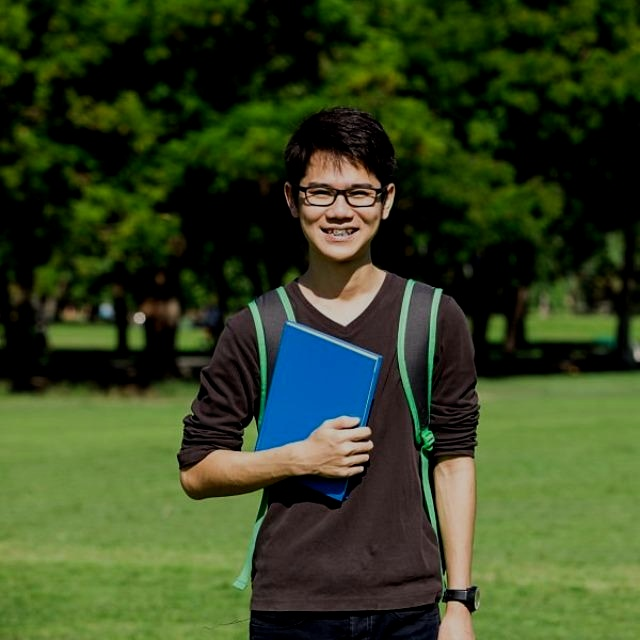Sin_Casco_Mascarrilla: (282, 108, 397, 260)
Sin_Chaleco: (240, 266, 460, 599)
